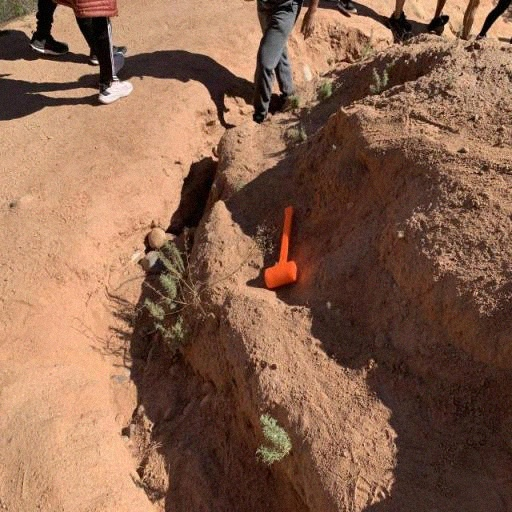mallet: (261, 202, 300, 292)
